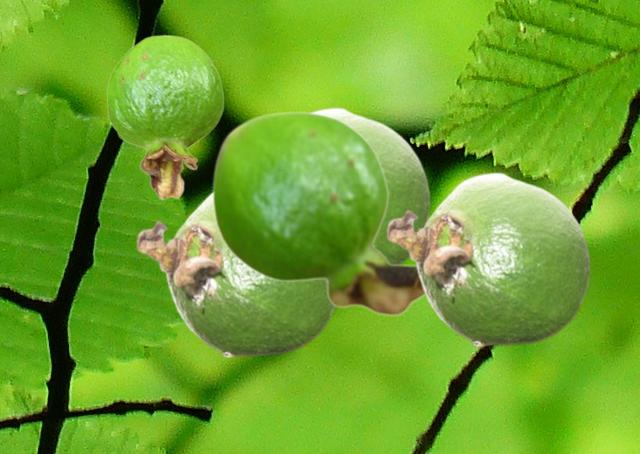guava: (211, 110, 424, 316), (385, 171, 591, 346), (135, 192, 336, 357), (106, 34, 223, 199), (312, 106, 431, 262)
